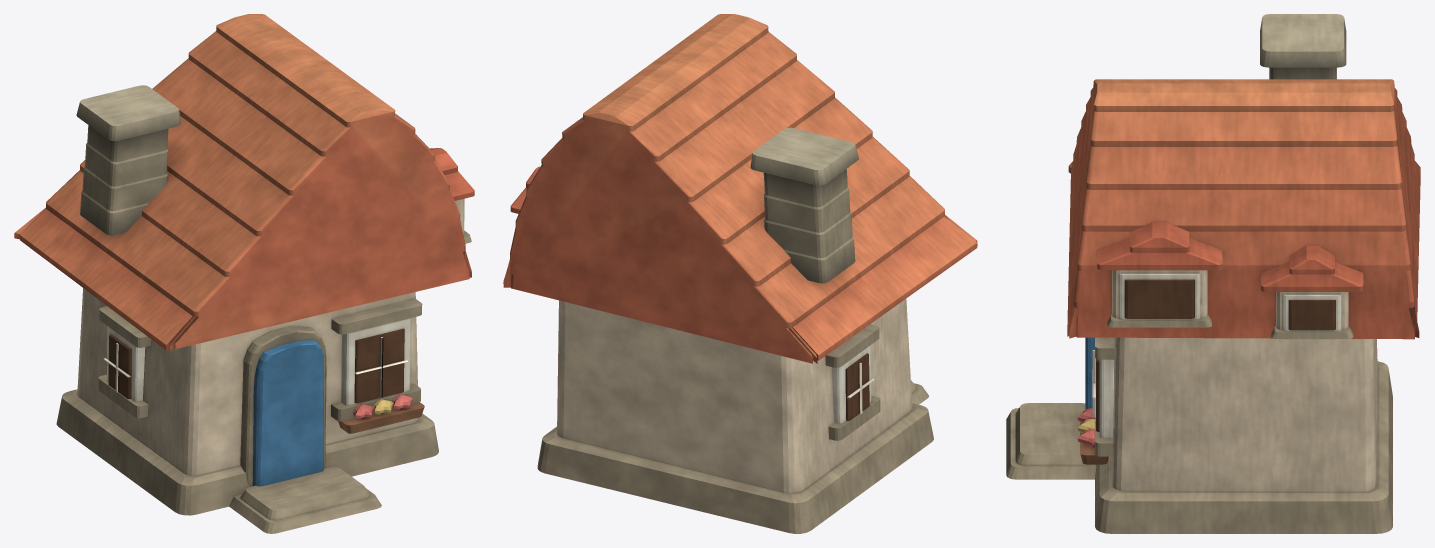
Rendered from foundation_cottage.glb.
3 views of the same model, side by side, from view 1: azimuth 30°, elevation 25°; view 2: azimuth 150°, elevation 25°; view 3: azimuth 270°, elevation 25° (orthographic). The views are drawn at different scales.
Parts seen in each view (by area): view 1: Cottage; view 2: Cottage; view 3: Cottage.
Part boxes in pixels (x1,y1,x2,y2): Cottage: [14, 14, 474, 533]; Cottage: [503, 14, 977, 533]; Cottage: [1006, 14, 1420, 533].
Bounding box in the file's own units: 3.72 × 3.95 × 3.64.
1 material, 1 textured.
